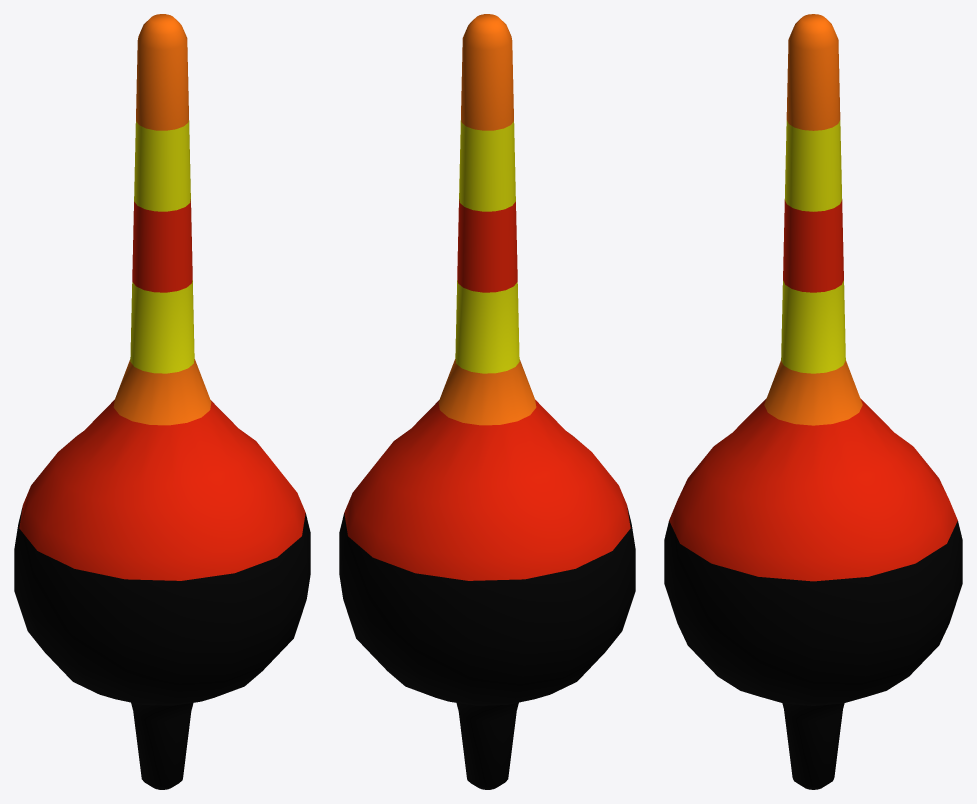
The model's file is splawikTest.fbx.
3 renders of one model, left to right at view 1: azimuth 30°, elevation 25°; view 2: azimuth 150°, elevation 25°; view 3: azimuth 270°, elevation 25°, orthographic.
Visible parts, largest first — view 1: Cylinder; view 2: Cylinder; view 3: Cylinder.
Part boxes in pixels (x1,y1,x2,y2): Cylinder: (14, 14, 310, 789); Cylinder: (339, 14, 635, 789); Cylinder: (664, 14, 962, 789).
Size of the model in its own units: 9.15 by 3.23 by 3.23.
